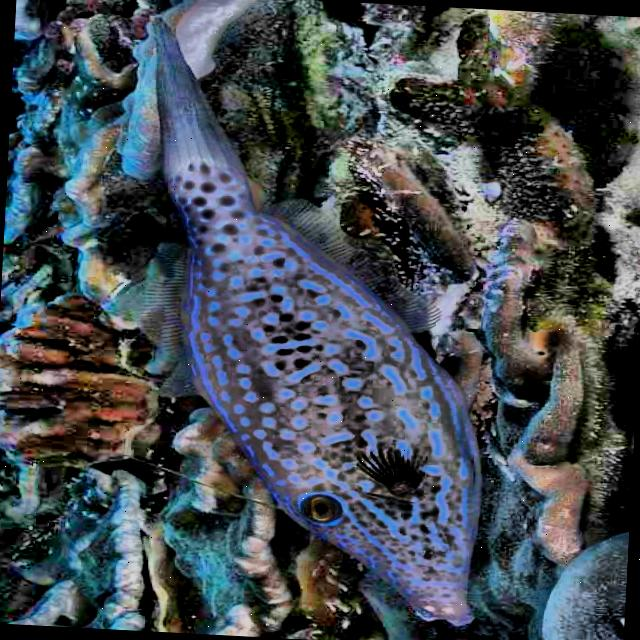fish: (120, 9, 507, 627)
